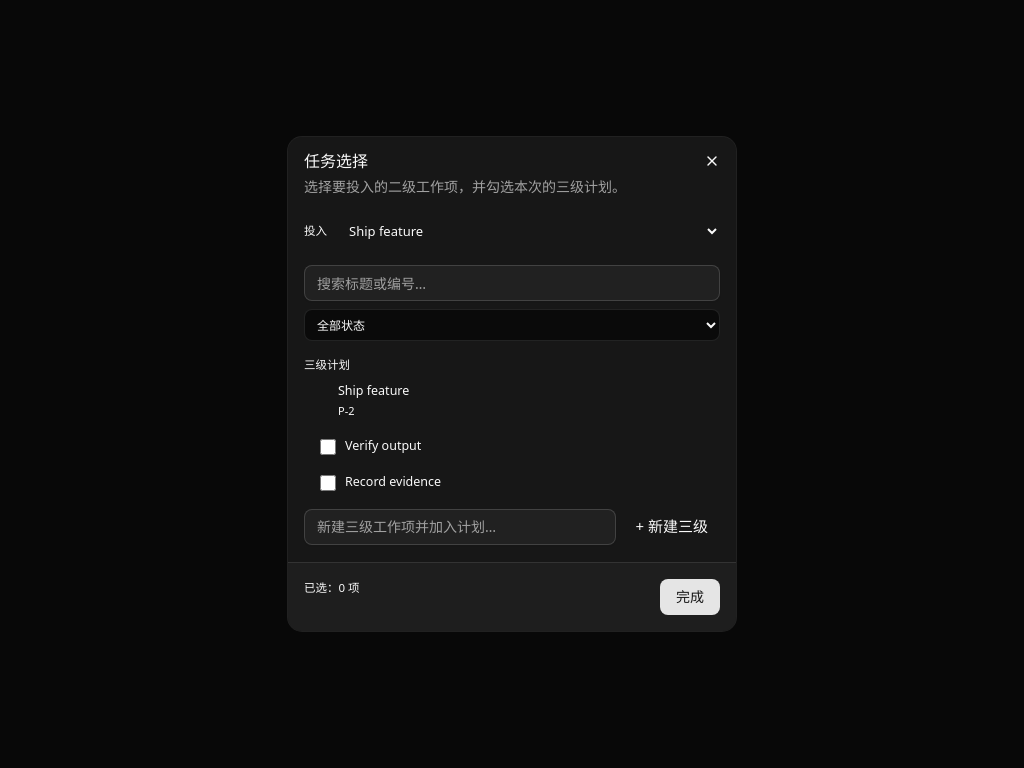
Scenario: TaskPickerModal 内联新建三级（工单③） › 失败：role="alert" 呈现原因、输入保留（离线创建禁令必须可见）
Type "离线想建" into the field named "新三级标题" at (460, 527), box [304,509,616,545]
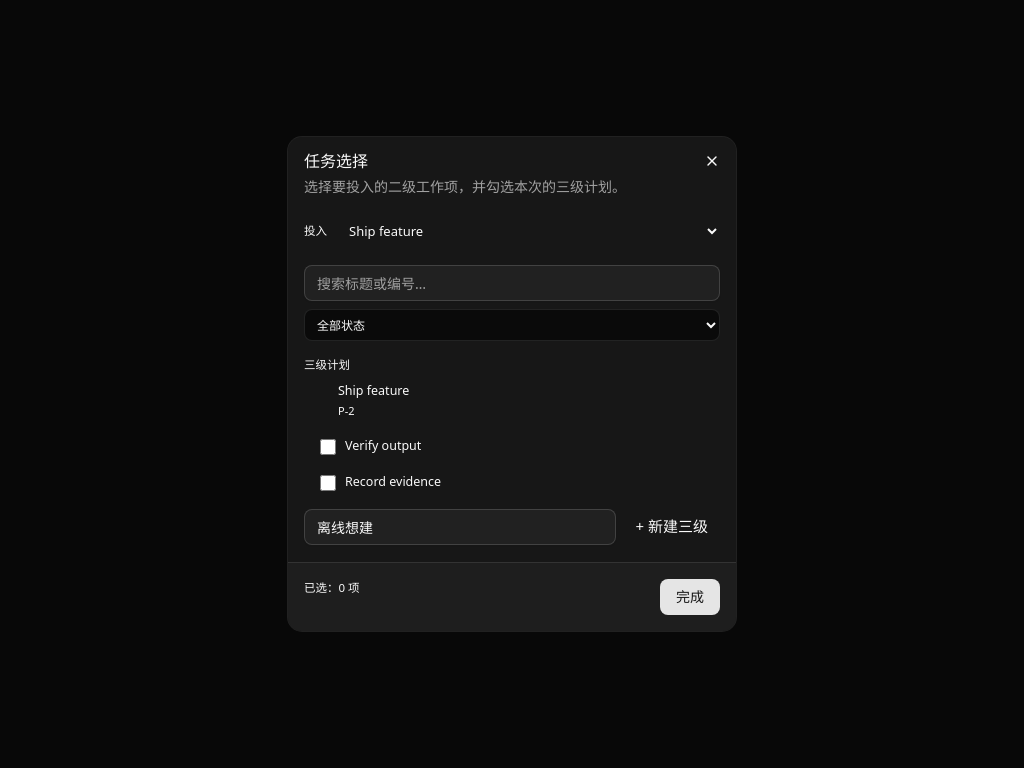
Click the button "+ 新建三级" at (672, 527), box [624,508,720,546]
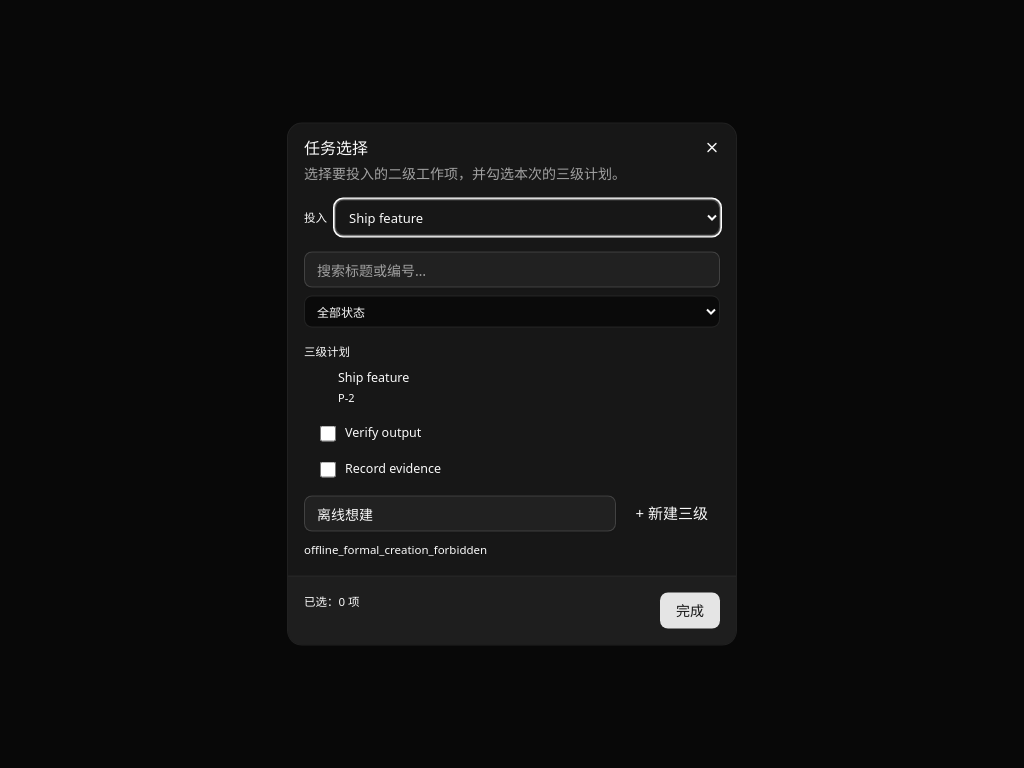
Check: the message reads "offline_formal_creation_forbidden", box [304,542,487,556]
